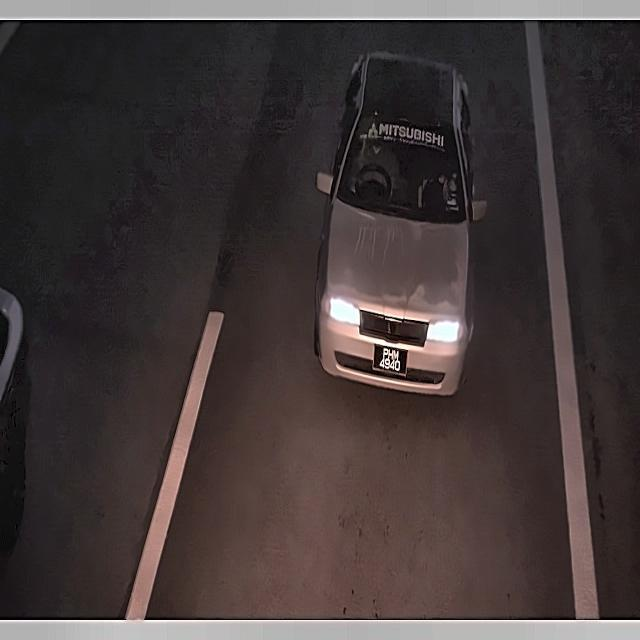car: (373, 344, 411, 380)
